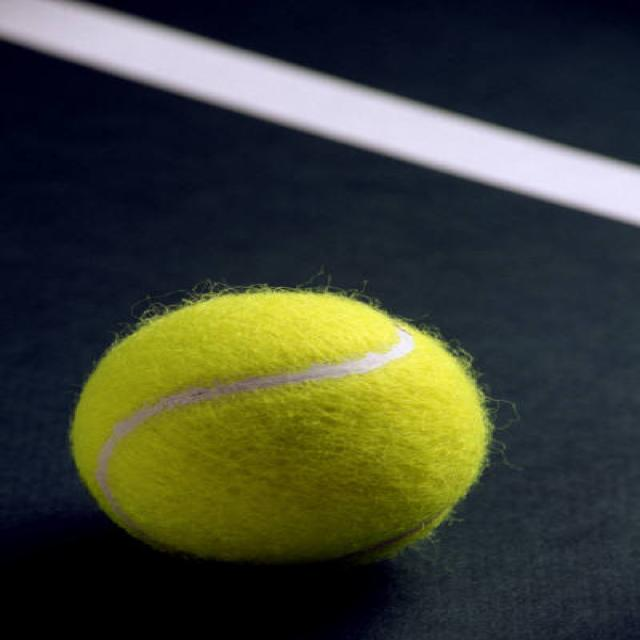Tennis Ball: (67, 288, 493, 571)
